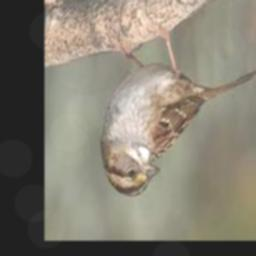Sparrow: (101, 23, 256, 196)
